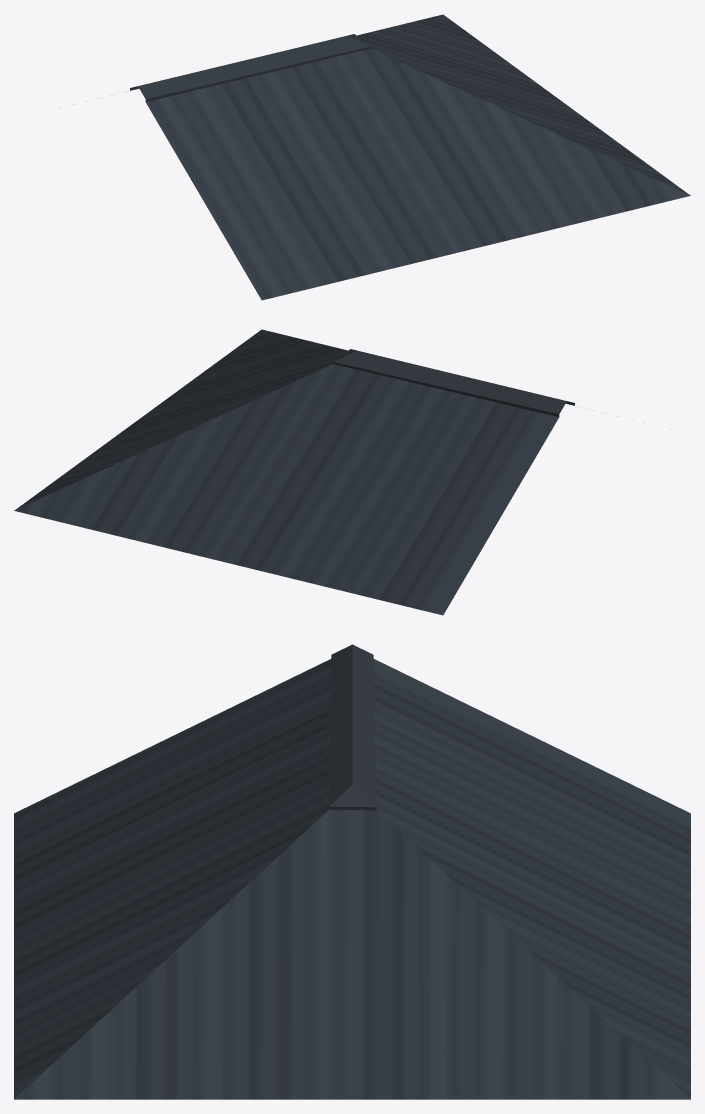
Rendered from SM_Bld_House_Roof_Angled_Cap_02.fbx.
3 views of the same model, one above another, from view 1: azimuth 30°, elevation 25°; view 2: azimuth 150°, elevation 25°; view 3: azimuth 270°, elevation 25° (orthographic). The views are drawn at different scales.
Visible parts, largest first — view 1: SM_Bld_House_Roof_Angled_Cap_02; view 2: SM_Bld_House_Roof_Angled_Cap_02; view 3: SM_Bld_House_Roof_Angled_Cap_02.
Boxes of the visible parts, bbox=[...] form: SM_Bld_House_Roof_Angled_Cap_02: bbox=[130, 14, 690, 300]; SM_Bld_House_Roof_Angled_Cap_02: bbox=[14, 329, 574, 615]; SM_Bld_House_Roof_Angled_Cap_02: bbox=[14, 644, 690, 1099].
Bounding box in the file's own units: 250 × 68.86 × 250.
